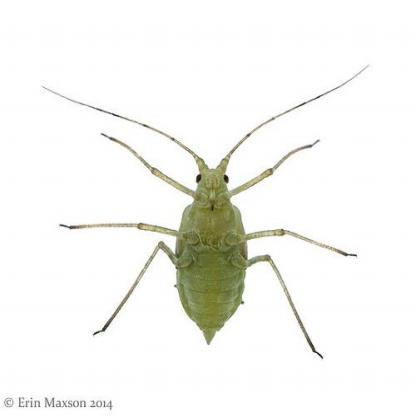aphid: (34, 63, 378, 358)
